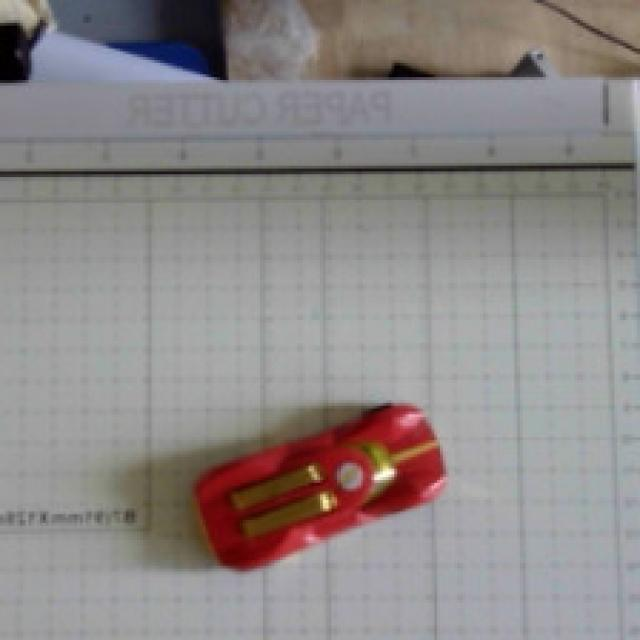Red Car: (150, 328, 495, 597)
